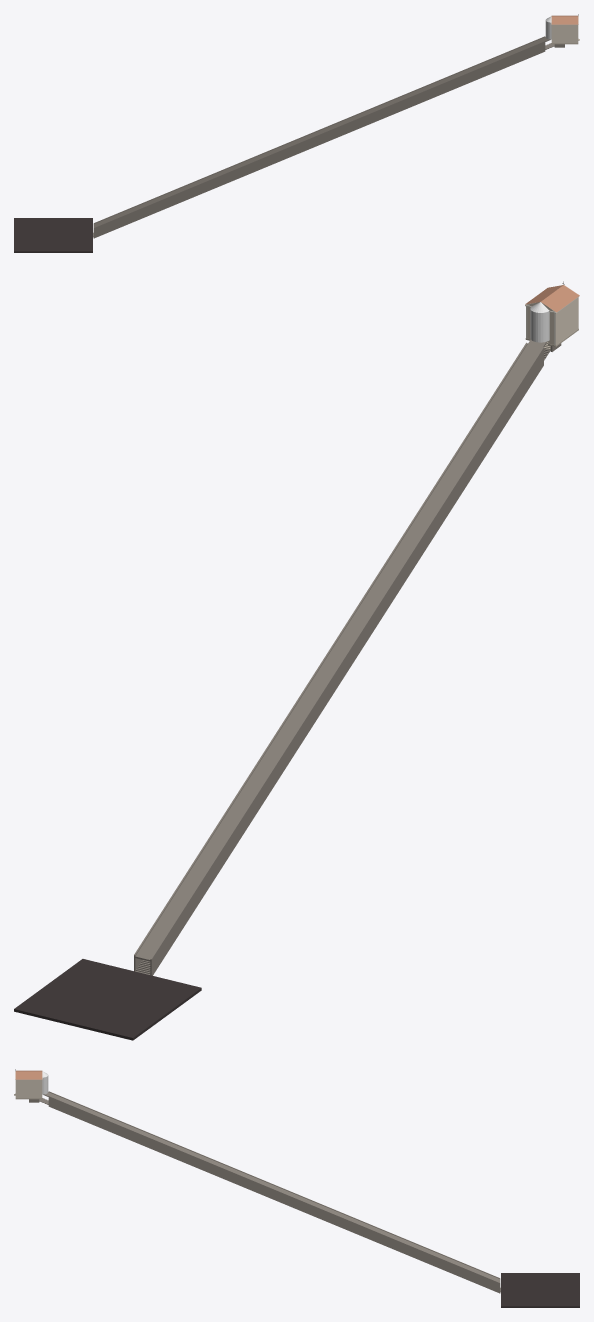
The model's file is crypt.glb.
3 views of the same model, one above another, from view 1: azimuth 90°, elevation 25°; view 2: azimuth 150°, elevation 25°; view 3: azimuth 270°, elevation 25° (orthographic). The views are drawn at different scales.
Visible parts, largest first — view 1: descent_wall_l, acheron_platform, descent_ceiling, descent_wall_r, crypt_wall_side_left; view 2: descent_ceiling, descent_wall_l, acheron_platform, descent_wall_r; view 3: descent_wall_r, acheron_platform, descent_ceiling, descent_wall_l, crypt_wall_side_right.
Boxes of the visible parts, <box> form: descent_wall_l: <box>93,41,545,238</box>; acheron_platform: <box>14,218,92,252</box>; descent_ceiling: <box>93,37,550,227</box>; descent_wall_r: <box>93,36,545,223</box>; crypt_wall_side_left: <box>551,25,578,43</box>; descent_ceiling: <box>135,339,547,961</box>; descent_wall_l: <box>150,347,543,975</box>; acheron_platform: <box>14,959,201,1040</box>; descent_wall_r: <box>134,342,527,971</box>; descent_wall_r: <box>48,1096,500,1293</box>; acheron_platform: <box>501,1273,579,1307</box>; descent_ceiling: <box>43,1092,500,1282</box>; descent_wall_l: <box>48,1091,500,1278</box>; crypt_wall_side_right: <box>15,1080,42,1098</box>.
Bounding box in the file's own units: 24 × 74.34 × 172.
